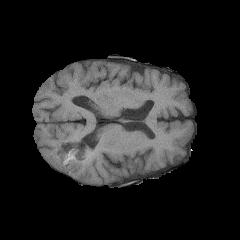glioma: (55, 138, 93, 177)
